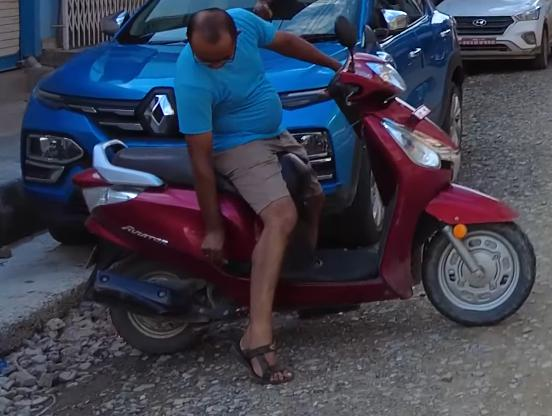scooter: (71, 49, 539, 360)
